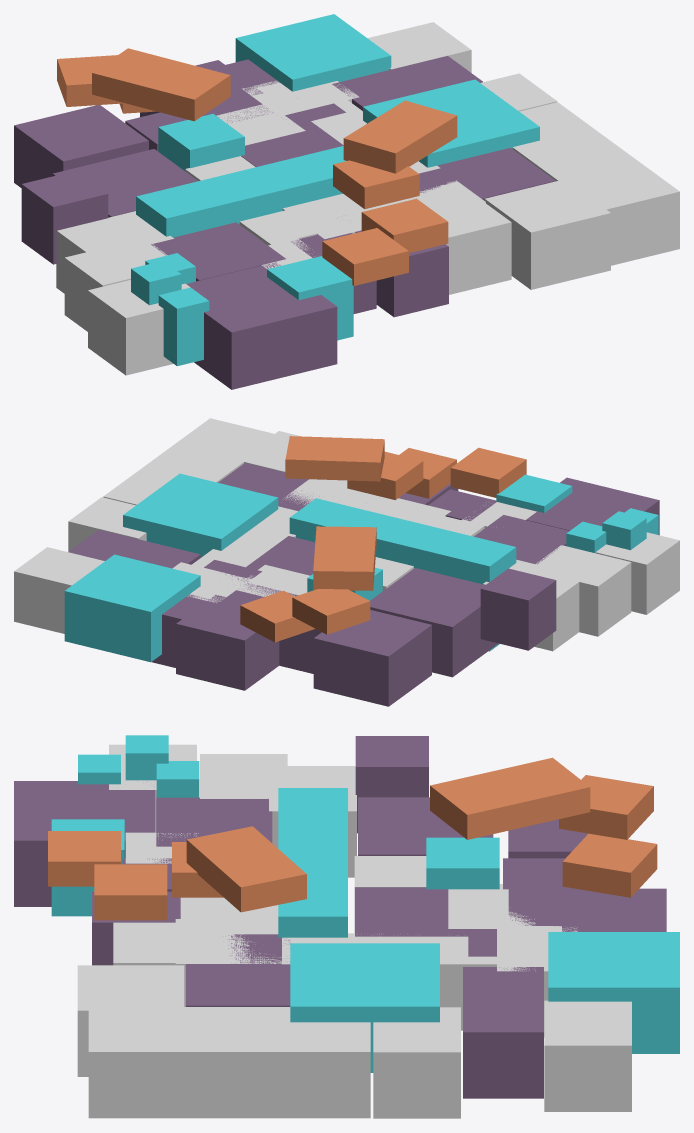
File: PrototipoArena1.fbx
3 views of the same model, one above another, from view 1: azimuth 30°, elevation 25°; view 2: azimuth 150°, elevation 25°; view 3: azimuth 270°, elevation 25° (orthographic). The views are drawn at different scales.
Visible parts, largest first — view 1: Cube.002, Cube.021, Cube.019, Cube.054, Cube.020, plataforma destrutivel.003, Cube.008, Cube.030, plataforma destrutivel.002, Cube.043, Cube.018, Cube.024 (+35 smaller); view 2: Cube.054, Cube.020, Cube.008, Cube.040, Cube.053, Cube.021, Cube.043, Cube.027, Cube.026, plataforma destrutivel.002, plataforma destrutivel.003, Cube.030 (+33 smaller); view 3: Cube.021, Cube.008, Cube.054, Cube.009, Cube.026, Cube.022, plataforma destrutivel.003, Cube.002, plataforma destrutivel.002, Cube.016, Cube.019, Cube.035 (+33 smaller).
Boxes of the visible parts, <box> form: Cube.002: <box>186,262,337,389</box>; Cube.021: <box>512,102,679,265</box>; Cube.019: <box>484,181,610,289</box>; Cube.054: <box>235,14,391,91</box>; Cube.020: <box>14,105,148,187</box>; plataforma destrutivel.003: <box>92,48,230,121</box>; Cube.008: <box>363,79,539,167</box>; Cube.030: <box>88,280,190,375</box>; plataforma destrutivel.002: <box>343,100,457,173</box>; Cube.043: <box>21,170,108,264</box>; Cube.018: <box>438,202,511,294</box>; Cube.024: <box>136,178,242,237</box>; Cube.054: <box>64,554,200,662</box>; Cube.020: <box>313,610,431,706</box>; Cube.008: <box>123,473,278,557</box>; Cube.040: <box>370,568,498,677</box>; Cube.053: <box>176,595,279,690</box>; Cube.021: <box>103,418,279,505</box>; Cube.043: <box>480,568,556,650</box>; Cube.027: <box>536,545,631,636</box>; Cube.026: <box>14,547,104,633</box>; plataforma destrutivel.002: <box>285,436,384,481</box>; plataforma destrutivel.003: <box>313,526,376,590</box>; Cube.030: <box>595,532,679,614</box>; Cube.021: <box>88,1007,370,1118</box>; Cube.008: <box>290,943,439,1072</box>; Cube.054: <box>548,932,679,1053</box>; Cube.009: <box>463,967,543,1098</box>; Cube.026: <box>544,1000,631,1111</box>; Cube.022: <box>373,1007,460,1118</box>; plataforma destrutivel.003: <box>430,757,590,839</box>; Cube.002: <box>14,781,154,906</box>; plataforma destrutivel.002: <box>186,826,306,912</box>; Cube.016: <box>186,934,290,1006</box>; Cube.019: <box>77,965,184,1076</box>; Cube.035: <box>355,887,468,936</box>.
Bounding box in the file's own units: 1989 × 505 × 1820.
